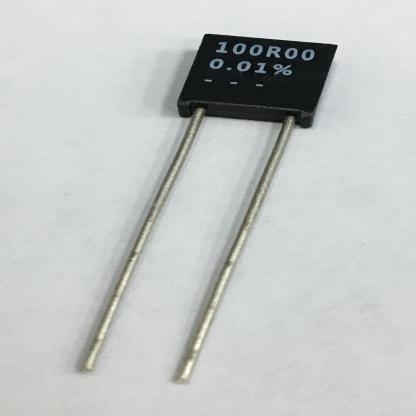SP0000007: (50, 15, 413, 415)
